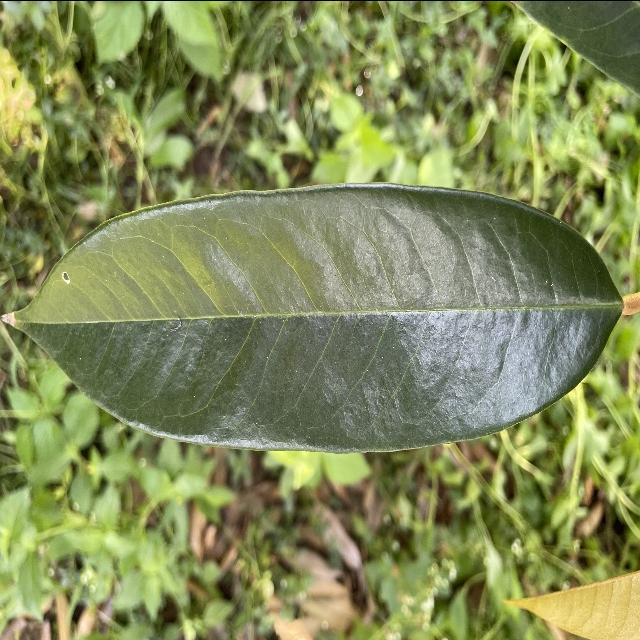No Disease: (0, 174, 635, 461)
